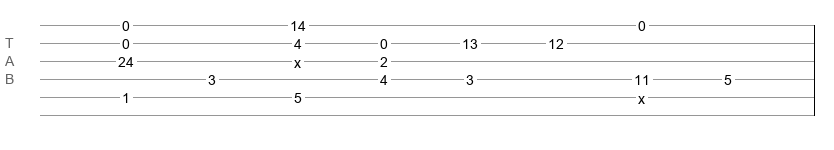0: (122, 36, 130, 46), (122, 18, 130, 28), (380, 36, 388, 46), (638, 18, 646, 28)
1: (122, 90, 130, 100)
11: (634, 72, 650, 82)
12: (548, 36, 564, 46)
13: (462, 36, 478, 46)
14: (290, 18, 306, 28)
2: (380, 54, 388, 64)
24: (118, 54, 134, 64)
3: (208, 72, 216, 82), (466, 72, 474, 82)
4: (294, 36, 302, 46), (380, 72, 388, 82)
5: (294, 90, 302, 100), (724, 72, 732, 82)
x: (294, 55, 301, 63), (638, 91, 645, 99)
